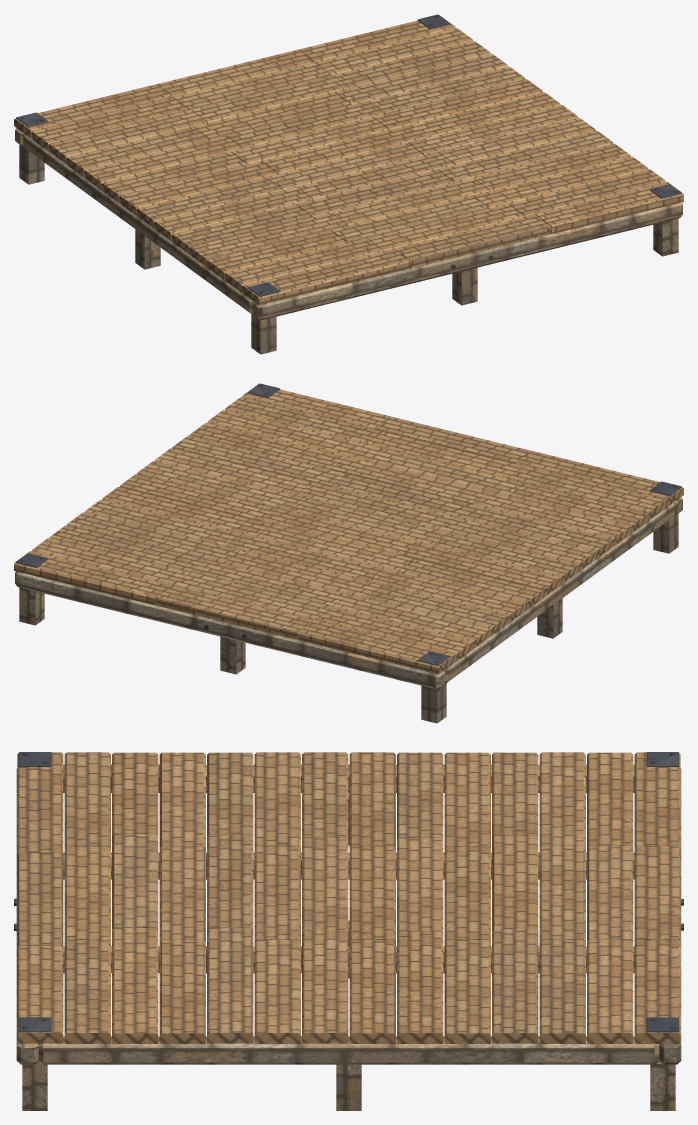
Rendered from makine_platformu_buyuk.glb.
3 renders of one model, top to bottom at view 1: azimuth 30°, elevation 25°; view 2: azimuth 150°, elevation 25°; view 3: azimuth 270°, elevation 25°, orthographic. The views are drawn at different scales.
Visible parts, largest first — view 1: makine_platformu_buyuk; view 2: makine_platformu_buyuk; view 3: makine_platformu_buyuk.
Part boxes in pixels (box(x1,y1,x2,y2)): makine_platformu_buyuk: box(14, 14, 683, 354); makine_platformu_buyuk: box(14, 383, 683, 723); makine_platformu_buyuk: box(14, 752, 683, 1110).
Bounding box in the file's own units: 9 × 1.24 × 9.07.
Materials: 1 (1 with a texture image).
